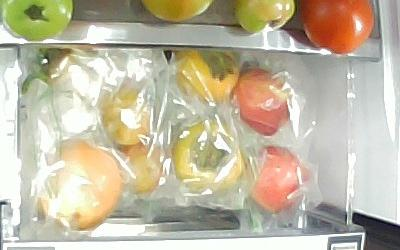apple_vinyl: (232, 66, 292, 137), (249, 146, 311, 213)
grapefruit_vinyl: (38, 138, 123, 230)
persimmon_vinyl: (172, 122, 244, 195), (176, 51, 239, 101)
prune_vinyl: (102, 88, 153, 147), (118, 144, 161, 194)
